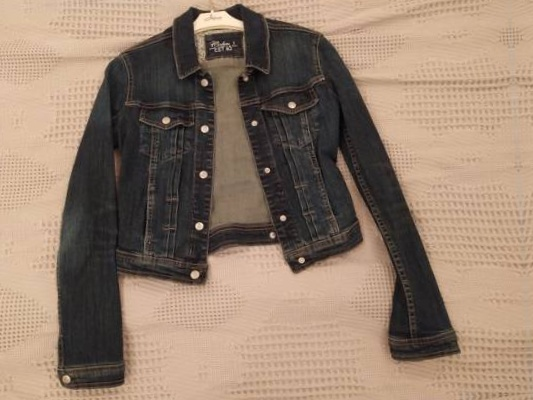Blazer: (33, 12, 474, 400)
